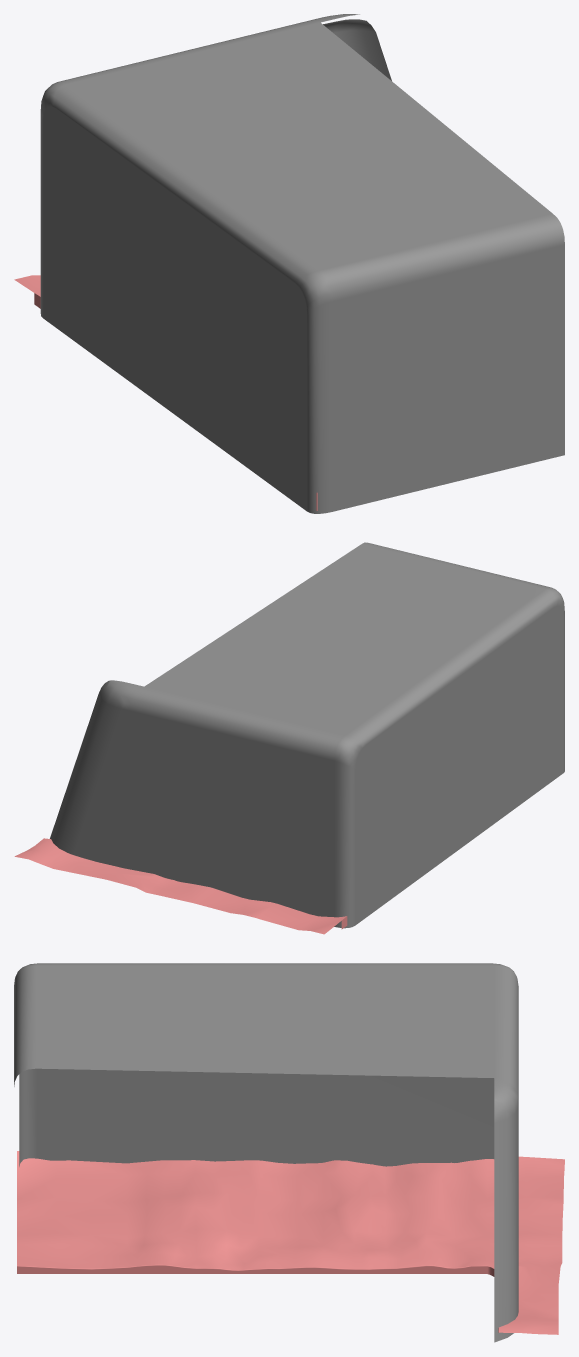
Rendered from S_Envi_Wlbl_Indoor_01h.gltf.
3 views of the same model, one above another, from view 1: azimuth 30°, elevation 25°; view 2: azimuth 150°, elevation 25°; view 3: azimuth 270°, elevation 25° (orthographic). The views are drawn at different scales.
Visible parts, largest first — view 1: S_Envi_Wlbl_Indoor_01h; view 2: S_Envi_Wlbl_Indoor_01h; view 3: S_Envi_Wlbl_Indoor_01h.
Part boxes in pixels (bbox=[...]): S_Envi_Wlbl_Indoor_01h: bbox=[14, 14, 564, 513]; S_Envi_Wlbl_Indoor_01h: bbox=[14, 542, 564, 934]; S_Envi_Wlbl_Indoor_01h: bbox=[14, 963, 564, 1342].
Size of the model in its own units: 5.27 by 2.95 by 6.93.
